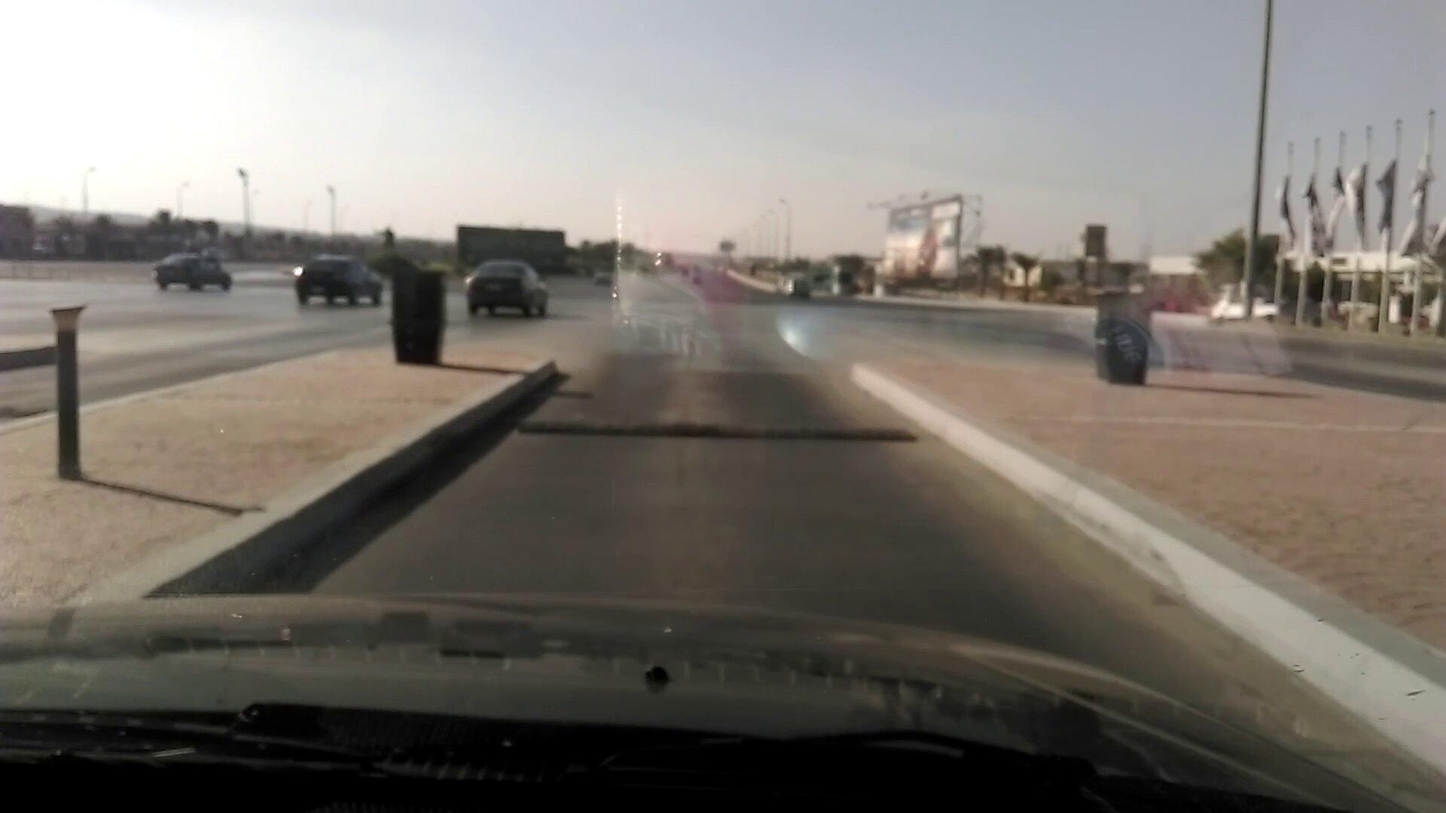Bump: (520, 416, 914, 444)
